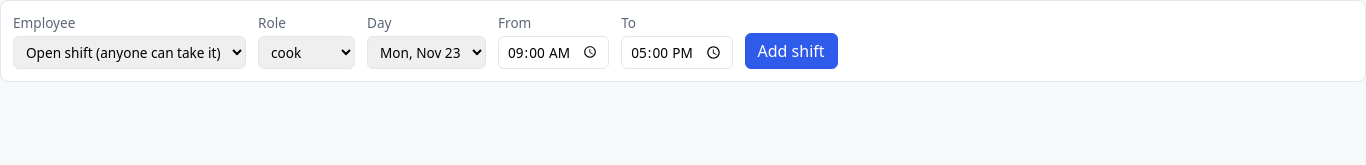
Test case: ShiftForm › shows the server's reason when a shift is refused
Select "Ana Lee (cook)" in the dropdown labelled "Employee" at (130, 52), box [13,36,246,69]
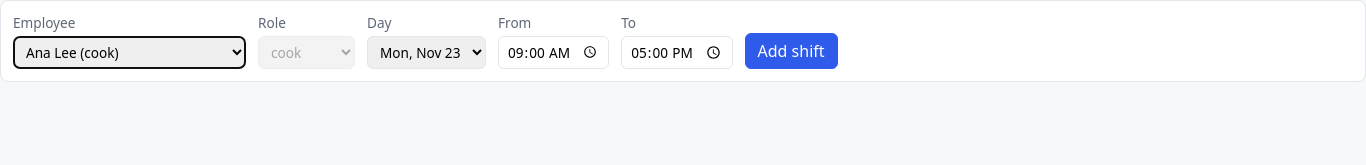
Click the button "Add shift" at (791, 51), box [744,33,838,69]
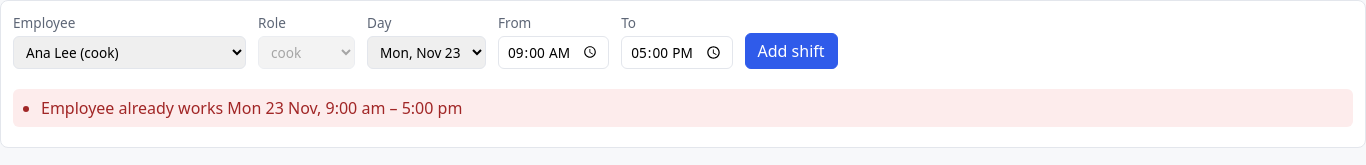
Check: the message shows "already works Mon 23 Nov", box [41,97,462,119]
